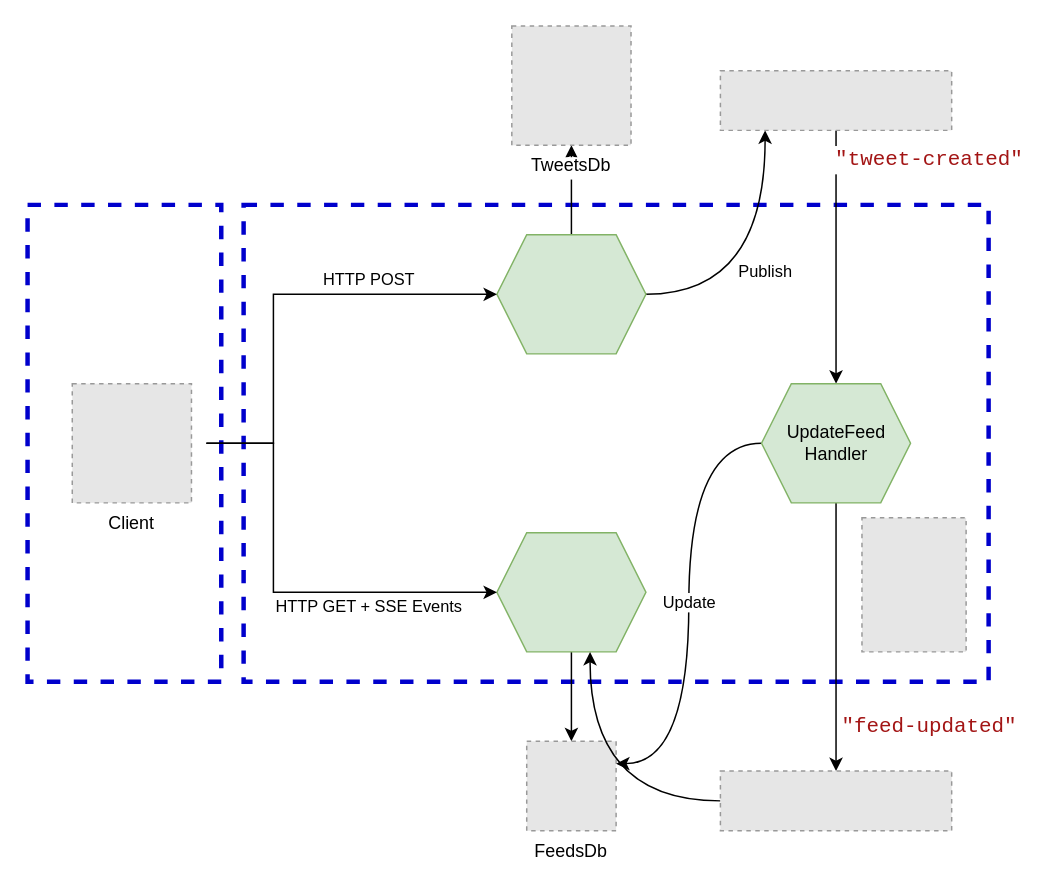
This 1049x888 diagram has some shape labels left out. Grey dashed boxes stand in for pictures. The centre of each missing label's shape, as x and y in pixels:
Feeds API: (x=570, y=591)
Tweets API: (x=570, y=293)
